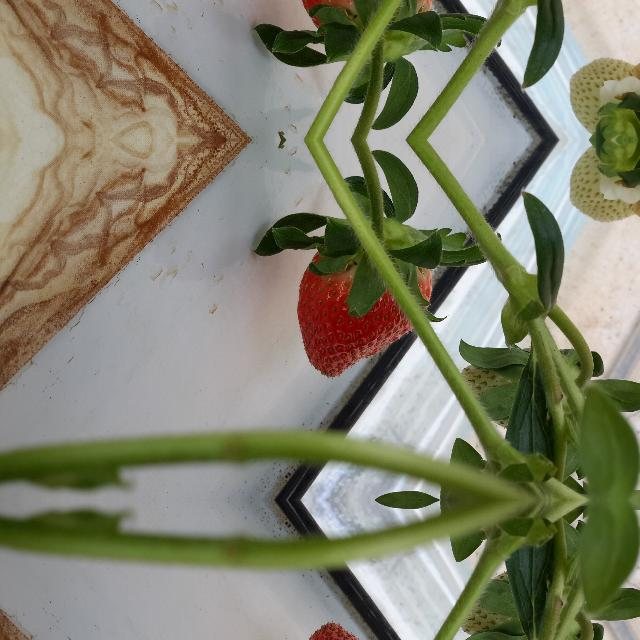Health_100: (298, 248, 432, 378), (297, 0, 432, 31)
